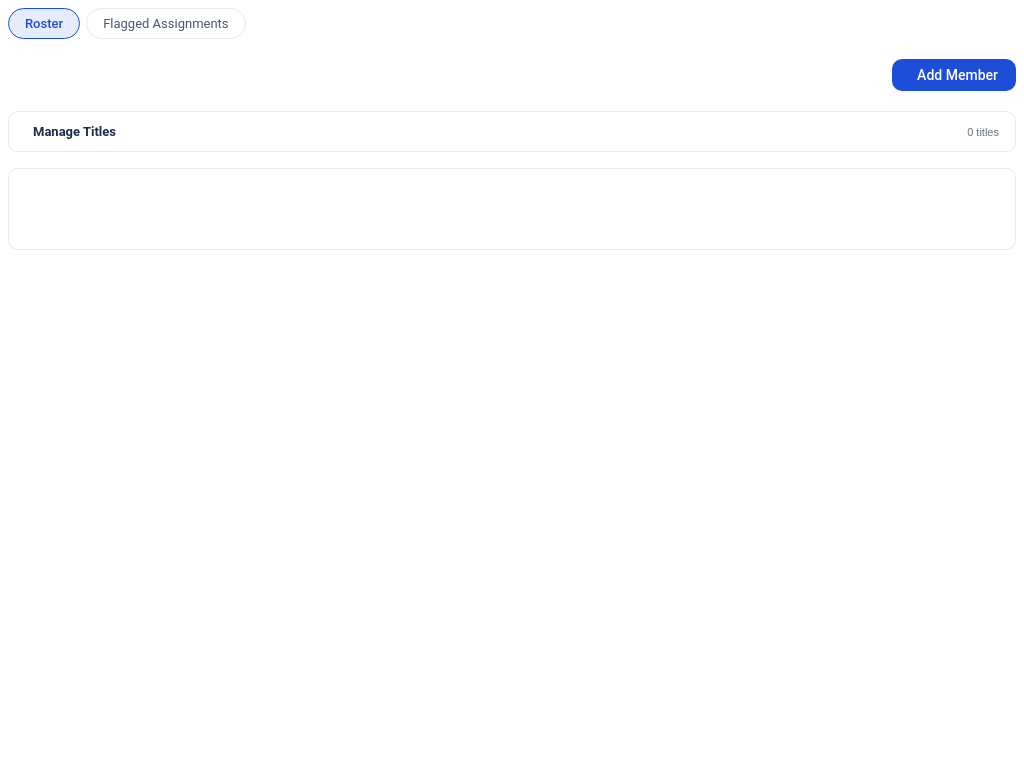
C/DL-3c Phase 2b — the Field Rep preset sets is_field_rep › [RED] when promote is REFUSED the message names what did not happen
Click the button "Add Member" at [954, 75], box left=892, top=59, right=1016, bottom=91
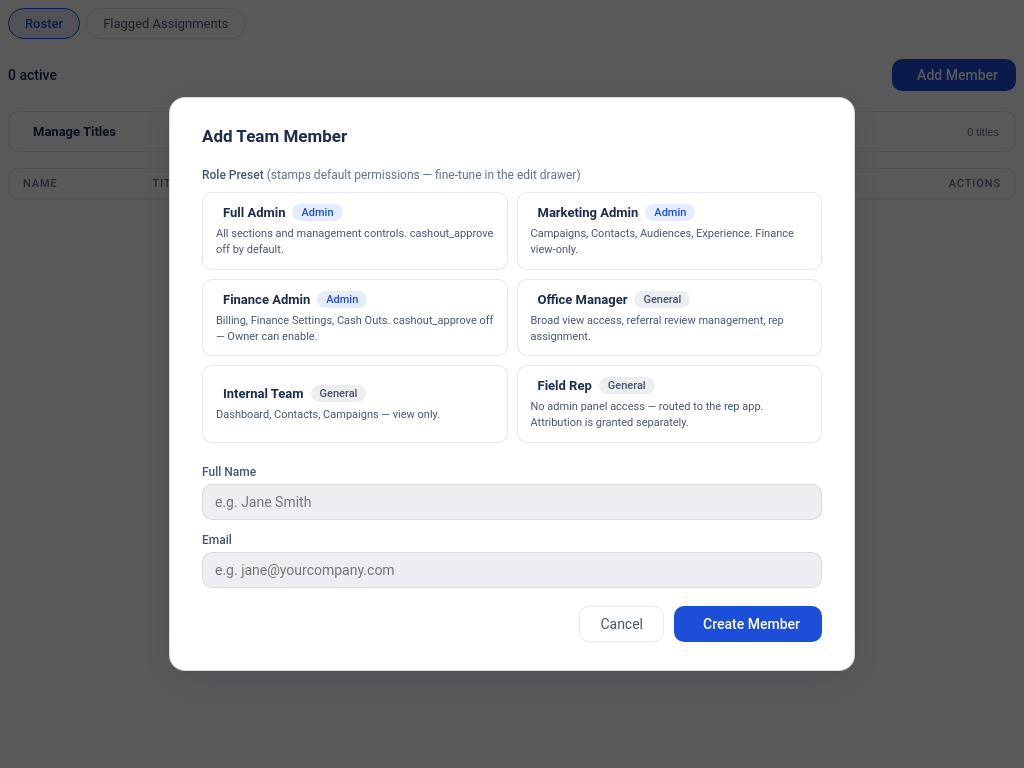
Click the text "Field Rep" at [565, 386], box left=538, top=378, right=592, bottom=393
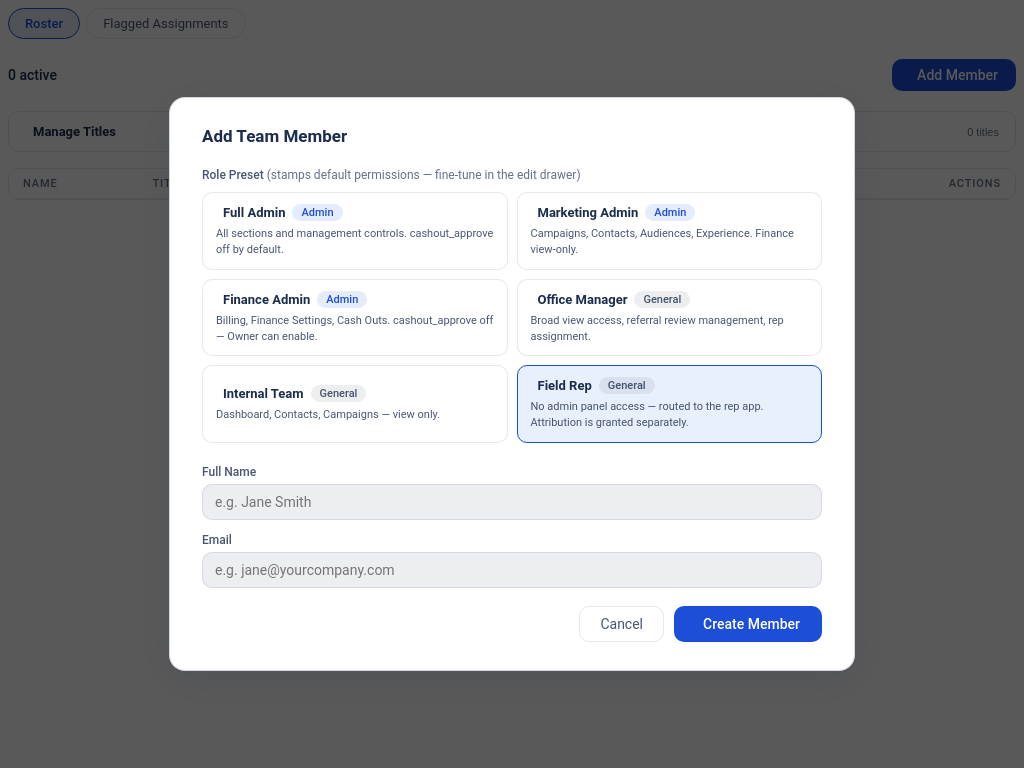
Type "new@rep.test" into the field with placeholder "e.g. jane@yourcompany.com" at [512, 570], box left=202, top=552, right=822, bottom=588
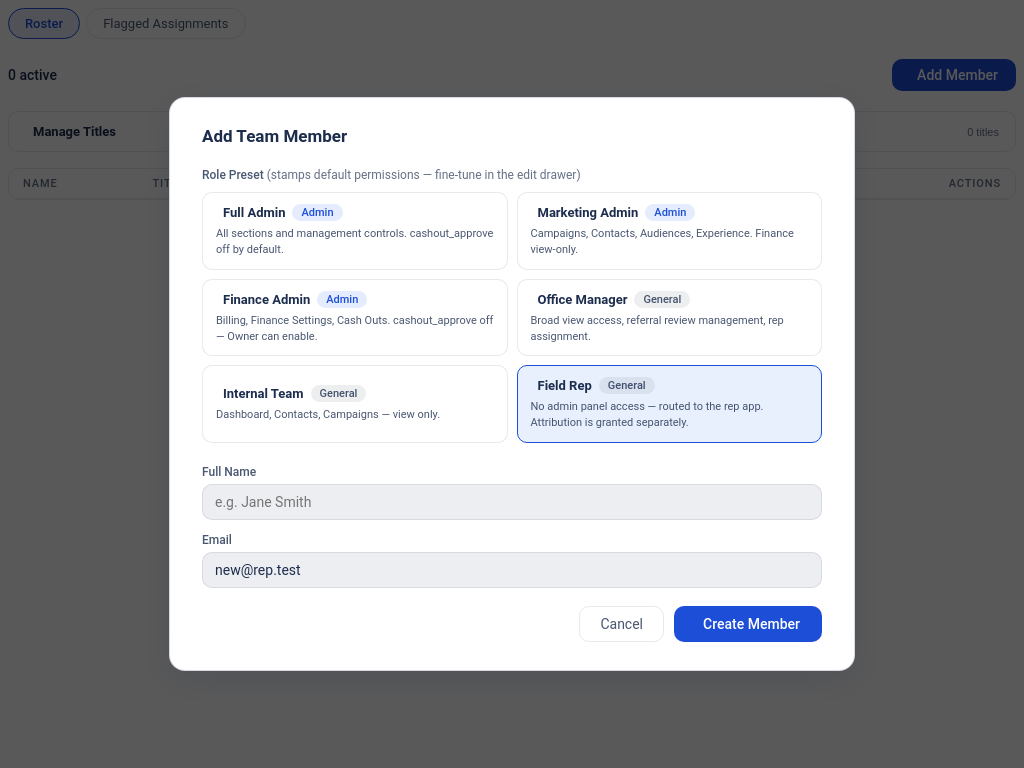
Type "New Rep" into the field with placeholder "e.g. Jane Smith" at [512, 502], box left=202, top=484, right=822, bottom=520
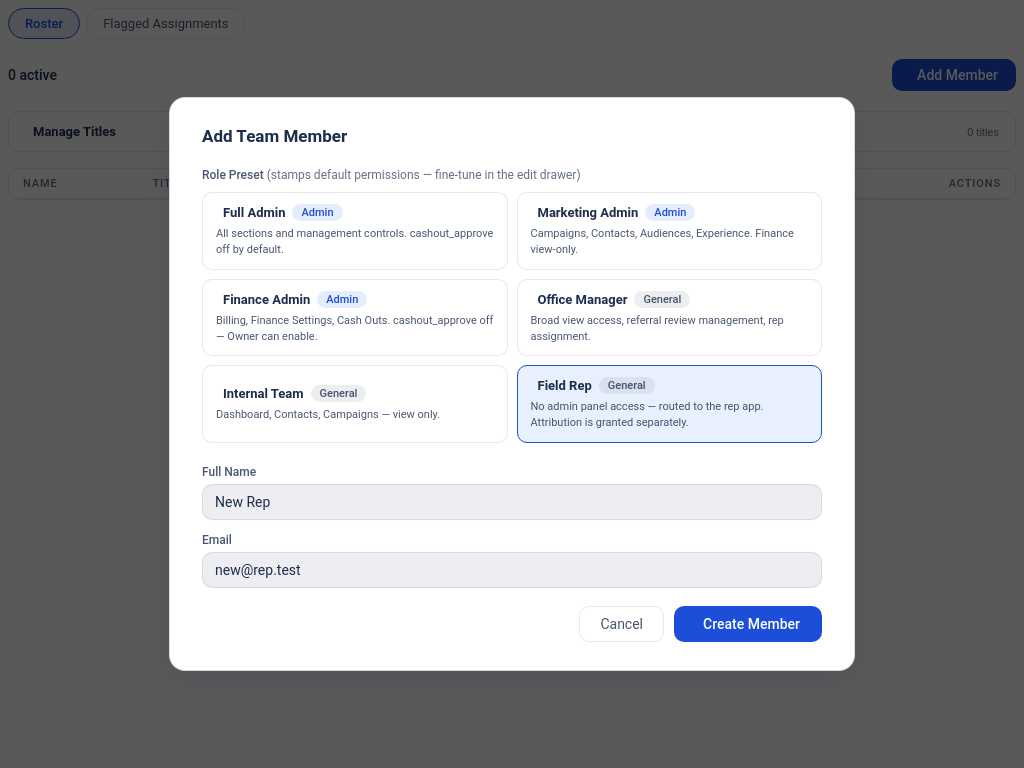
Click the button "Create Member" at [748, 624], box left=674, top=606, right=822, bottom=642
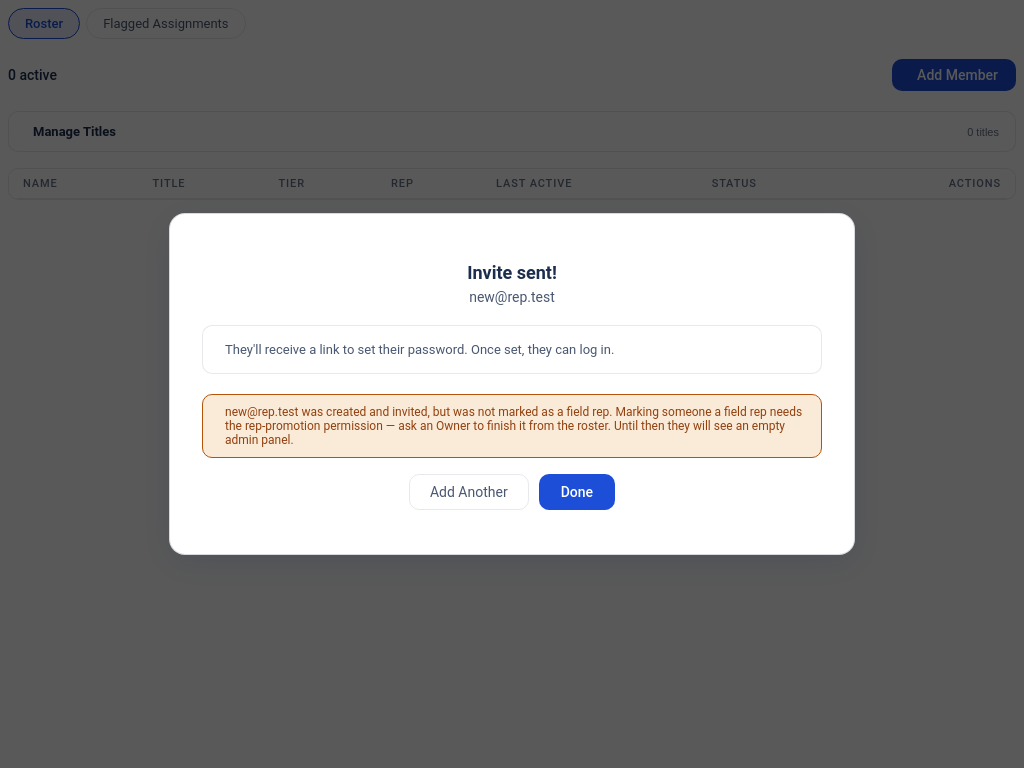
Expected: the text "not marked as a field rep" shows "owner", left=225, top=405, right=802, bottom=447
